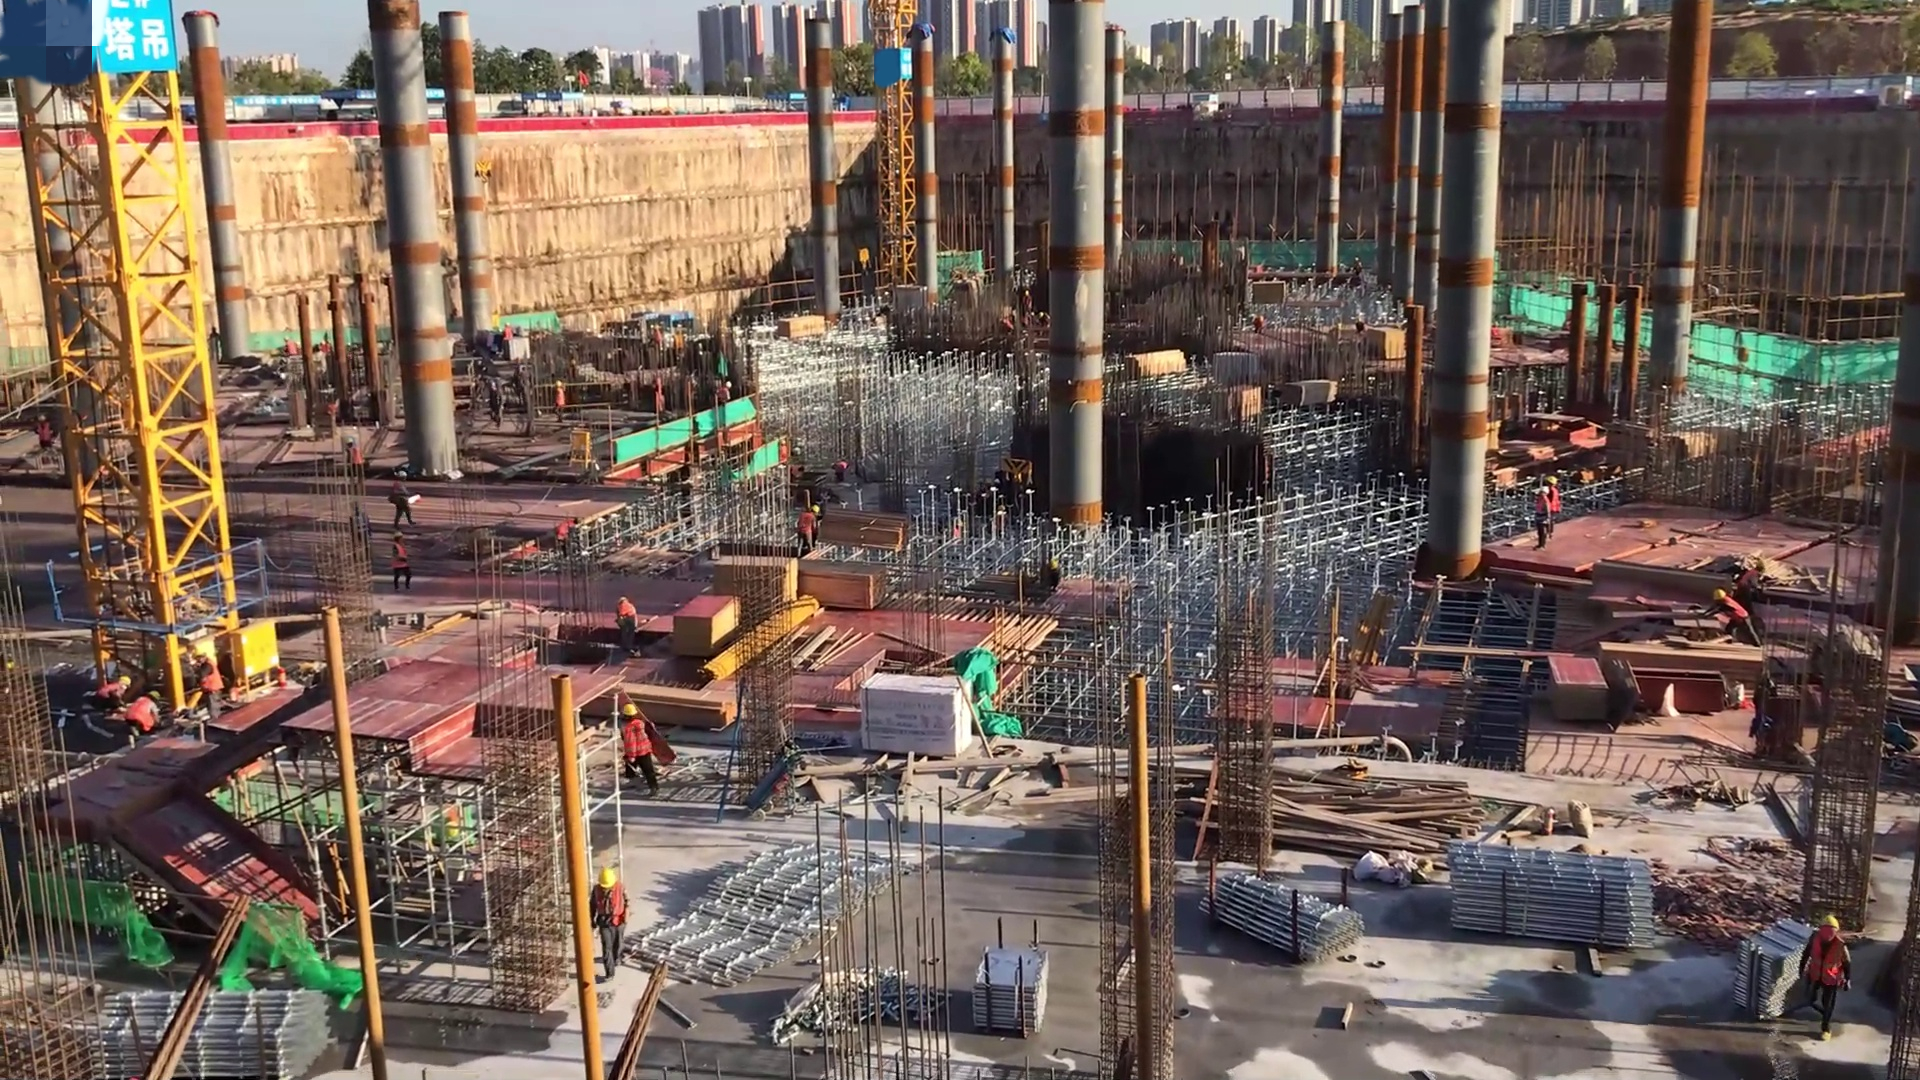helmet: (1814, 915, 1841, 940), (596, 865, 620, 892), (1709, 588, 1733, 604), (621, 702, 639, 721), (119, 671, 133, 695), (142, 689, 162, 703), (192, 649, 208, 665), (345, 433, 357, 452), (393, 531, 407, 543), (810, 503, 821, 517), (1754, 559, 1766, 573), (397, 469, 410, 480), (1547, 474, 1558, 486), (38, 413, 49, 425), (554, 378, 563, 390), (723, 379, 733, 388), (282, 333, 291, 343), (830, 460, 837, 469)
person: (1803, 912, 1855, 1046), (586, 866, 632, 990), (613, 701, 664, 799), (1702, 587, 1764, 650), (188, 648, 225, 726), (1728, 555, 1768, 624), (122, 684, 165, 745), (1363, 319, 1413, 369), (389, 470, 421, 531), (614, 591, 642, 658), (388, 530, 414, 597), (93, 672, 130, 718), (33, 411, 59, 474), (552, 509, 584, 559), (796, 503, 822, 561), (341, 437, 368, 490), (1535, 485, 1552, 550), (1545, 472, 1562, 535), (488, 374, 506, 430), (549, 376, 570, 423), (715, 380, 738, 410), (829, 458, 849, 487), (283, 333, 298, 367), (499, 321, 515, 347), (1022, 289, 1034, 315)
vest: (1807, 933, 1851, 992), (592, 884, 631, 931), (618, 722, 658, 770), (127, 696, 159, 735), (198, 659, 224, 701), (1733, 566, 1759, 605), (1722, 600, 1748, 624), (391, 540, 410, 571), (619, 599, 638, 627), (799, 510, 813, 538)
